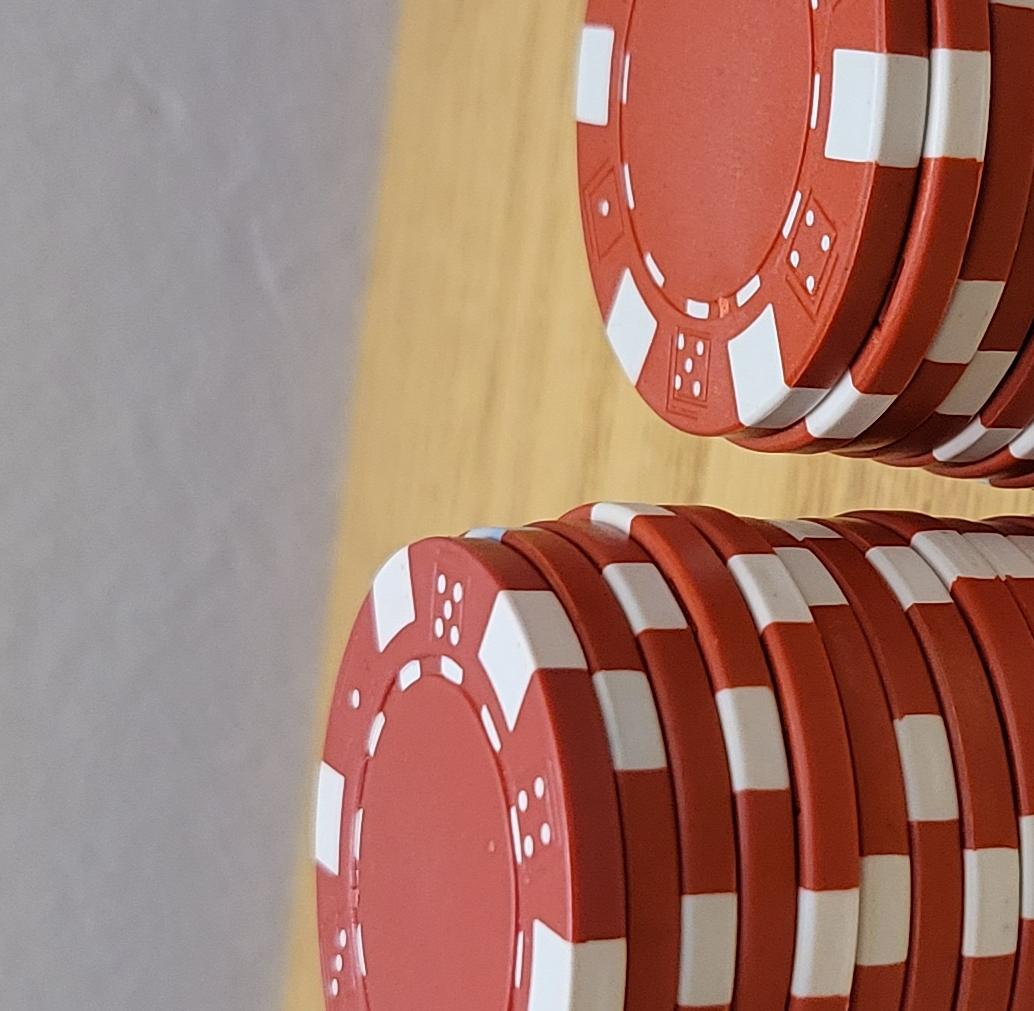Chip: (1, 315, 500, 1011)
